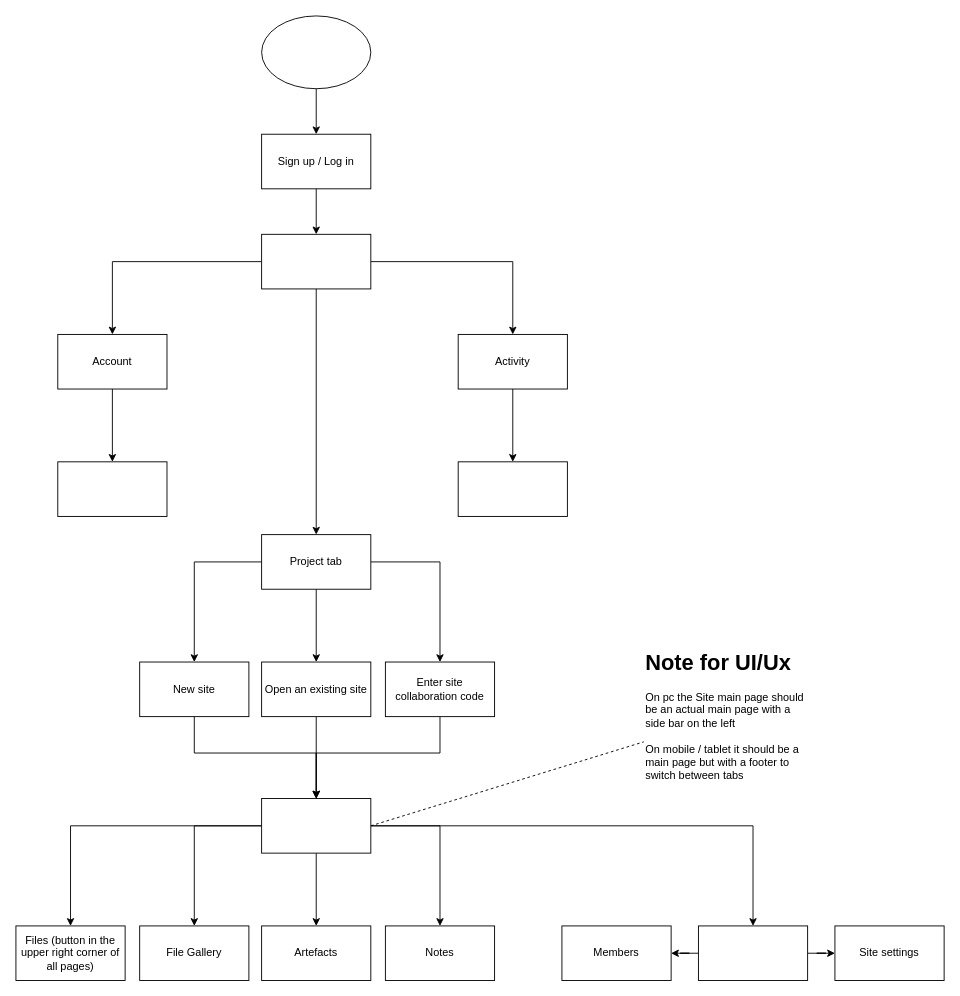
This 960x996 diagram has some shape labels left out. The centre of each missing label's shape, as x and y in pixels:
"Burger ( dropdown available on all pages)" goes at (x=753, y=953).
"Edit settings and account settings" goes at (x=112, y=488).
"Home Page" goes at (x=316, y=261).
"Landing Page" goes at (x=316, y=52).
"Site main page" goes at (x=316, y=825).
"View recently edited sites" goes at (x=512, y=488).
